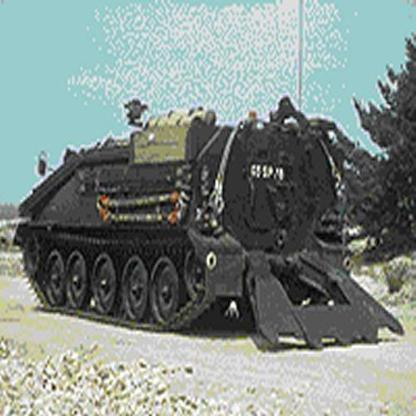Tank: (13, 95, 408, 355)
